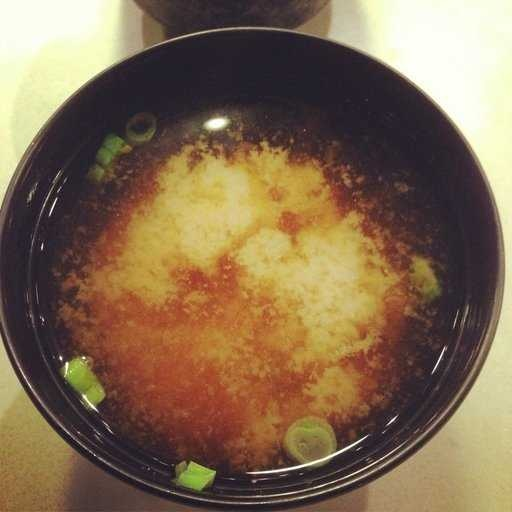soup: (66, 112, 438, 475)
